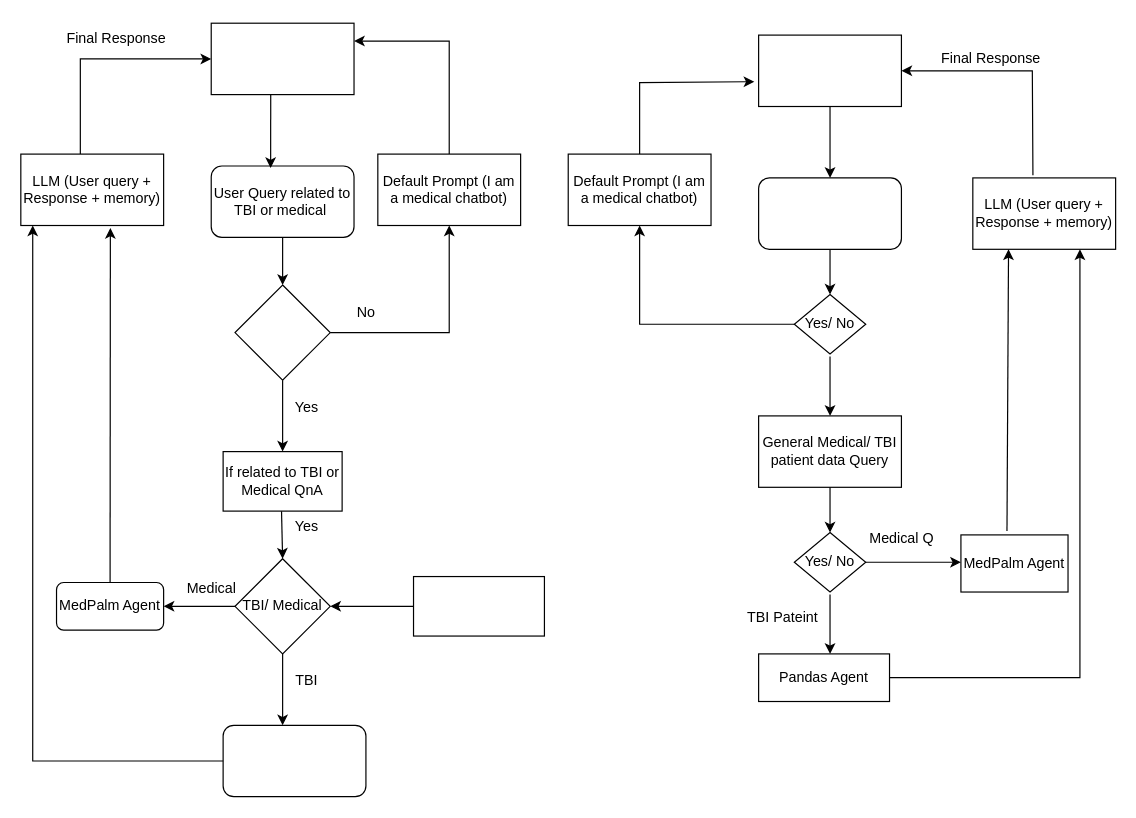
The diagram is 1136 pixels wide and 818 high, and some of its shapes have lost their labels. The box of each missing label's shape, as (x1, y1, x2, y2) in pixels:
Knowledge Base Agent: (222, 724, 366, 797)
Patient: (210, 22, 354, 95)
Patient-data (Based on patient ID): (412, 575, 544, 636)
Researcher: (757, 34, 901, 107)
TBI data related (table schema) or general medical query: (757, 177, 901, 249)
Yes/No: (234, 284, 330, 380)
